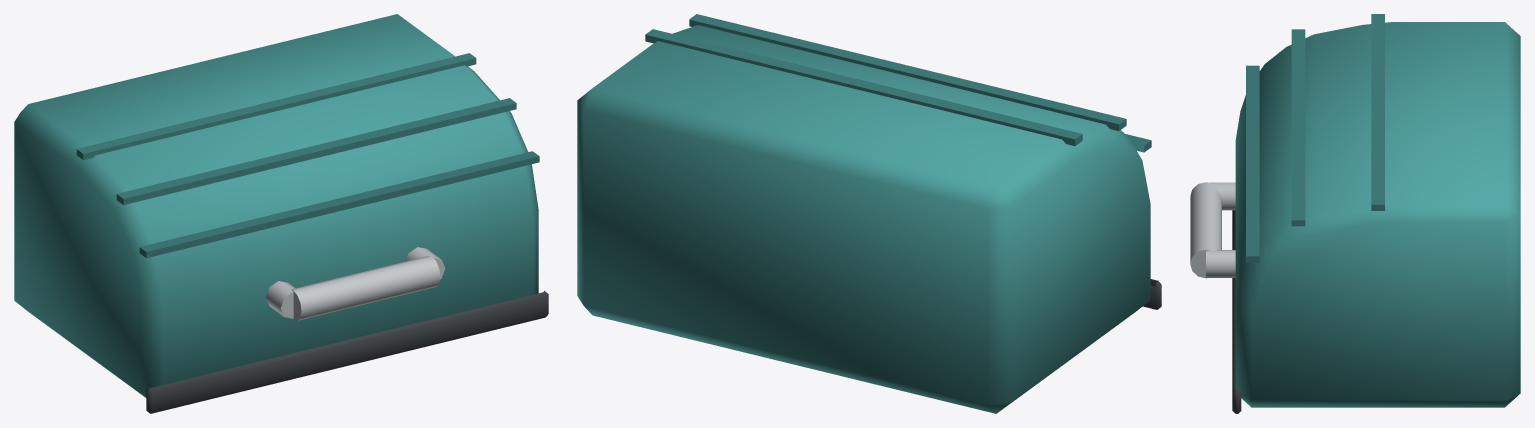
Rendered from BreadBox_01.glb.
3 views of the same model, side by side, from view 1: azimuth 30°, elevation 25°; view 2: azimuth 150°, elevation 25°; view 3: azimuth 270°, elevation 25° (orthographic). The views are drawn at different scales.
Parts seen in each view (by area): view 1: SM_BreadBox_01; view 2: SM_BreadBox_01; view 3: SM_BreadBox_01.
Boxes of the visible parts, x1,y1,x2,y2 form: SM_BreadBox_01: [14, 14, 548, 413]; SM_BreadBox_01: [577, 14, 1161, 413]; SM_BreadBox_01: [1190, 14, 1520, 413].
Size of the model in its own units: 0.404 by 0.202 by 0.29.
Materials: 1 (1 with a texture image).
